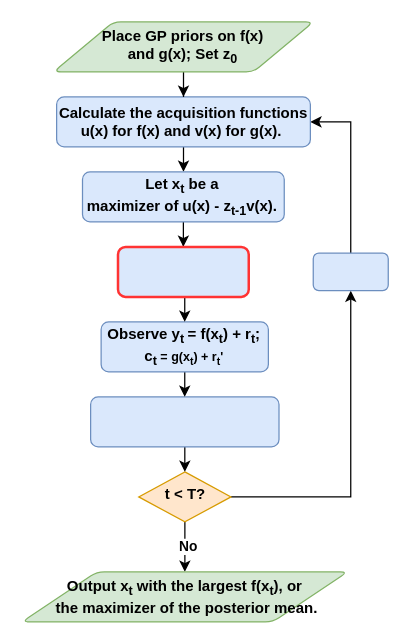
This 411x644 diagram has some shape labels left out. Here are the shapes that lost their labels. From the top down, the centre of each, then its label:
point (182, 271): z t = z t-1 + v(x t )
point (350, 271): t = t + 1
point (184, 421): Update the GP posteriors on f and g with (x t , y t , c t ).
